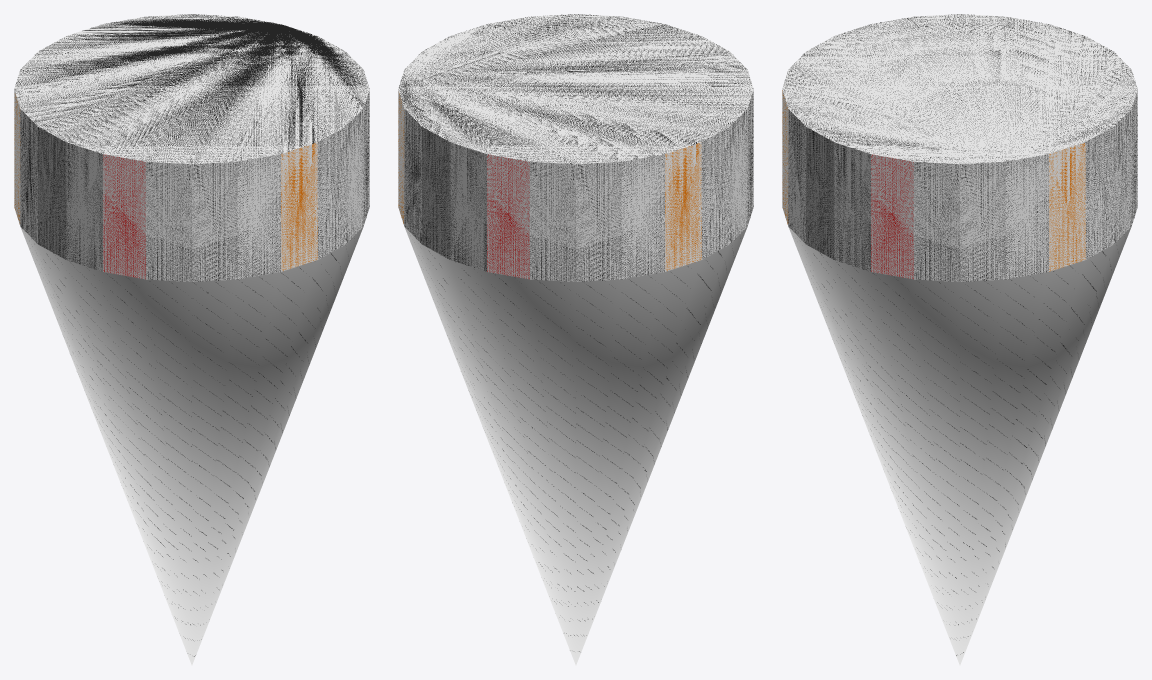
The model's file is Drill.fbx.
3 renders of one model, left to right at view 1: azimuth 30°, elevation 25°; view 2: azimuth 150°, elevation 25°; view 3: azimuth 270°, elevation 25°, orthographic.
Visible parts, largest first — view 1: Model; view 2: Model; view 3: Model.
Part boxes in pixels (x1,y1,x2,y2): Model: [14, 14, 369, 665]; Model: [398, 14, 753, 665]; Model: [782, 14, 1137, 665].
Bounding box in the file's own units: 0.52 × 0.9307 × 0.52.
